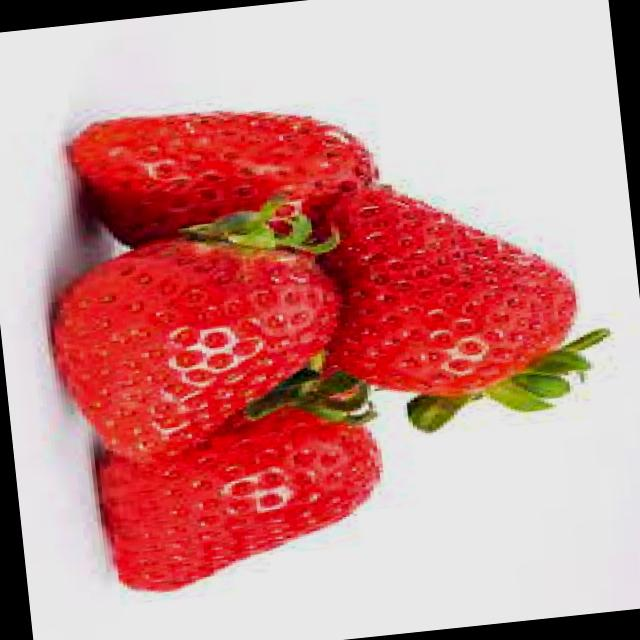tofu: (42, 202, 344, 471), (306, 162, 593, 436), (82, 382, 388, 614), (56, 83, 389, 260)
